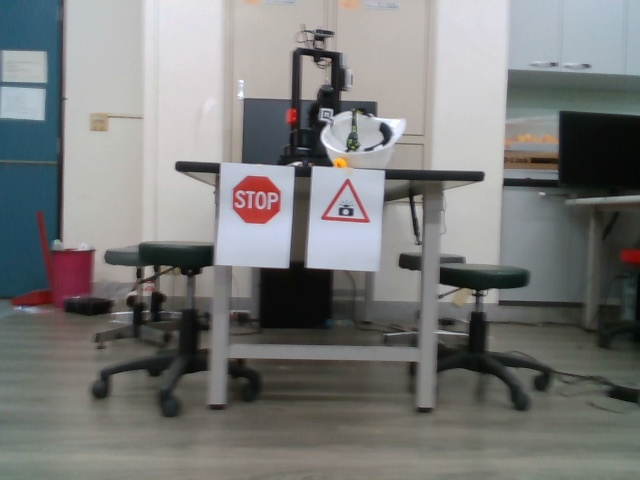camera: (319, 177, 374, 229)
helmet: (320, 106, 408, 168)
stop: (228, 173, 285, 228)
